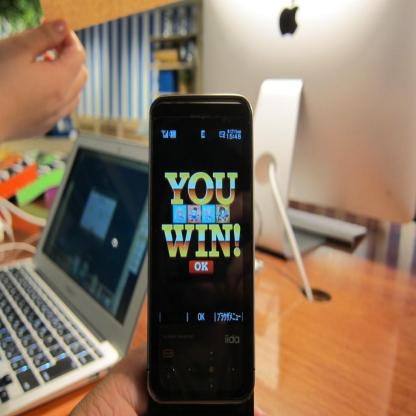board: (0, 128, 148, 415)
